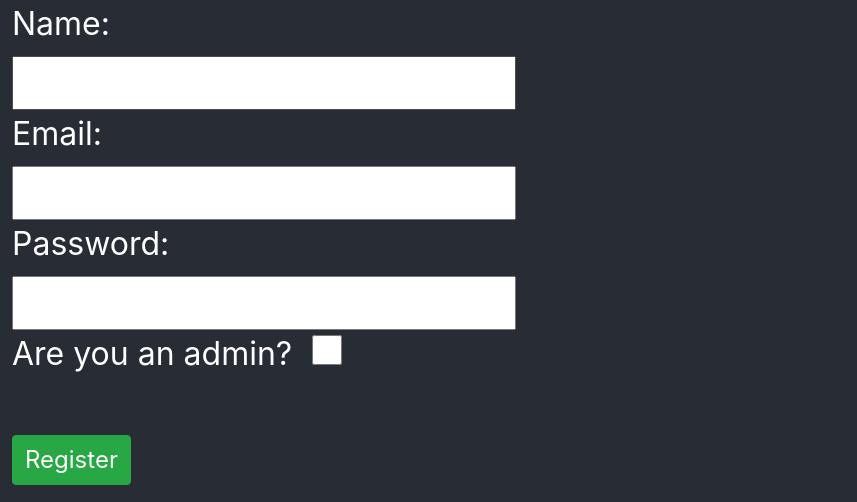
Test case: Auth Form tests › Appearence of maxLength alert
Type "qwerty" into the field labelled "Name:" at (264, 83), box [12,56,516,110]
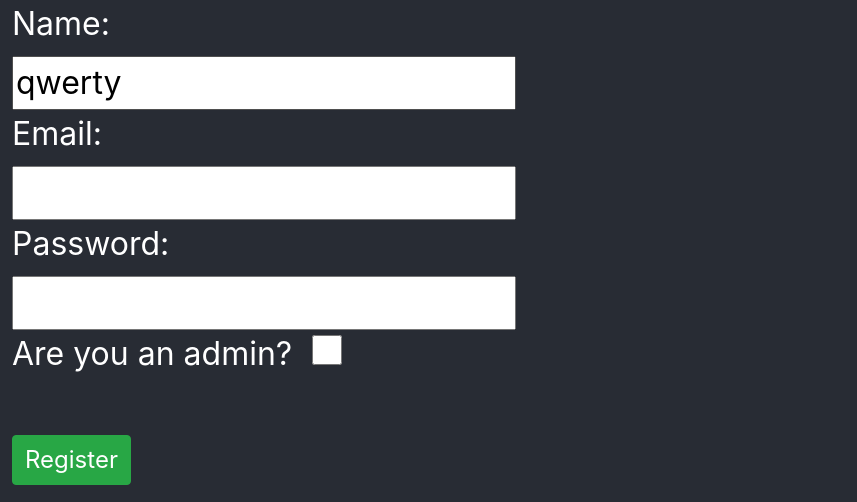
Type "test@gmail.com" into the field labelled "Email:" at (264, 193), box [12,166,516,220]
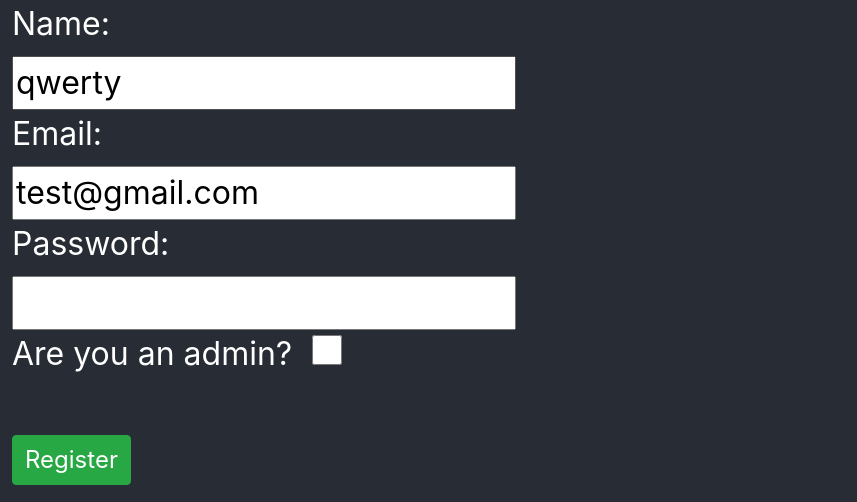
Type "123456789123456123456123123123" into the password field with test id "password-field" at (264, 303), box [12,276,516,330]
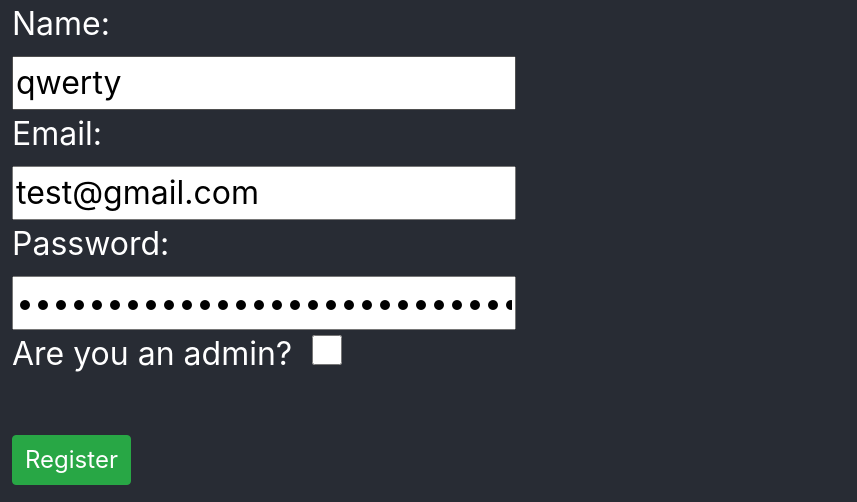
Submit the form with test id "form", box [12,4,516,485]
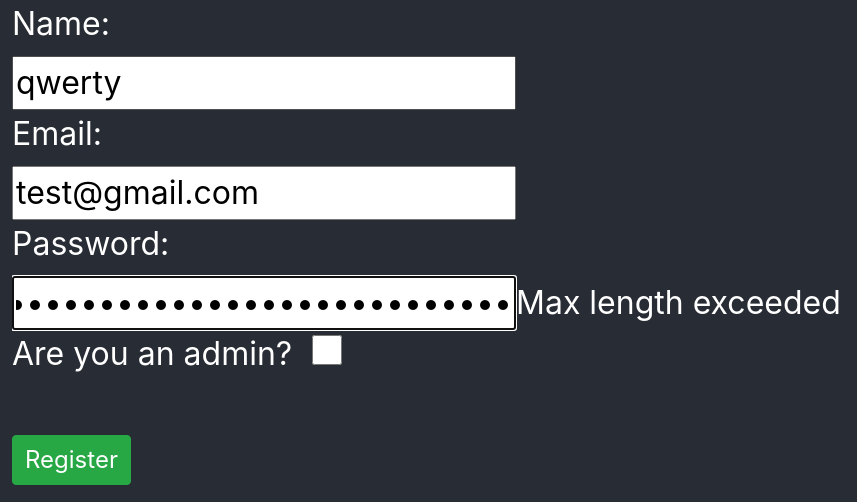
Now the text "Max length exceeded" is shown, box [516,283,841,322]
